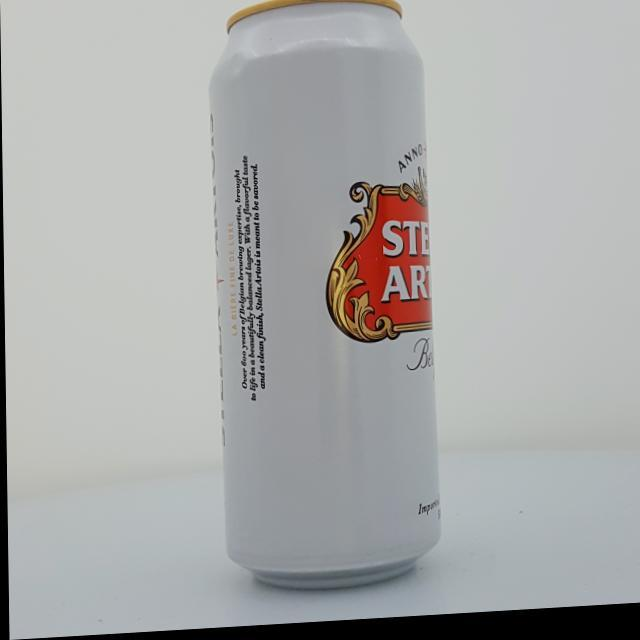beer-can: (208, 0, 439, 599)
